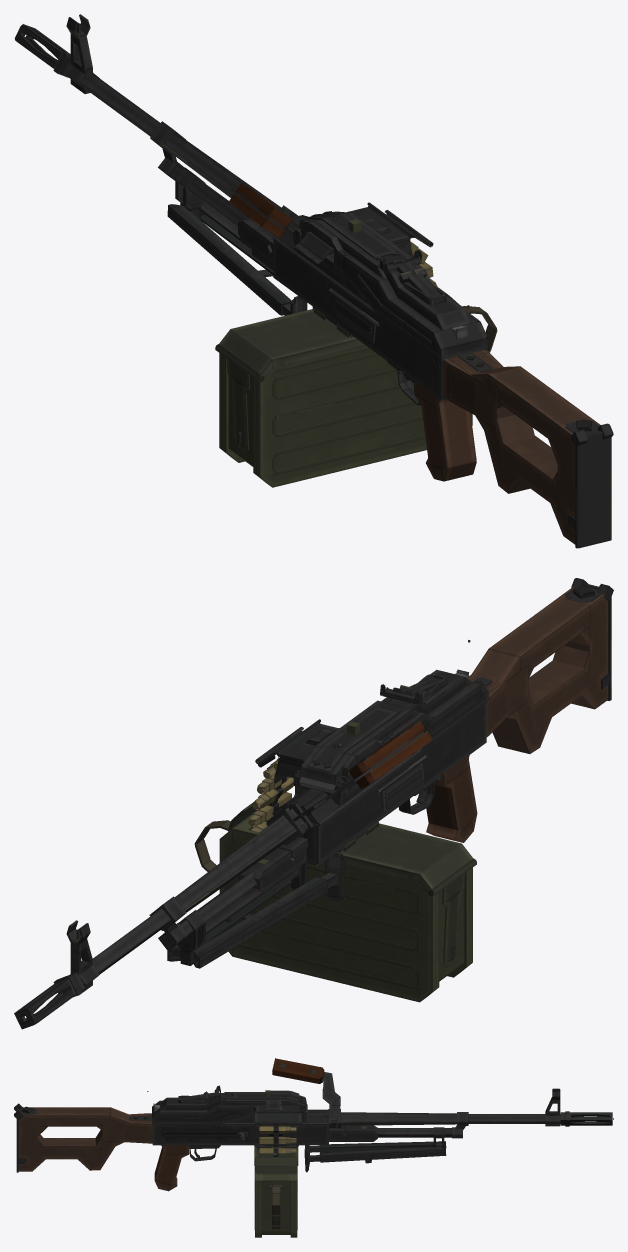
File: a6_pkm.geo.fbx
3 views of the same model, one above another, from view 1: azimuth 30°, elevation 25°; view 2: azimuth 150°, elevation 25°; view 3: azimuth 270°, elevation 25° (orthographic). The views are drawn at different scales.
Parts seen in each view (by area): view 1: magazine, pkmstock, dustcover, pkmbody, barrel, pkmgrip, bone5, gastube, barrelswaphandlecarry, rearironsight, muzzle_break, bone3 (+1 smaller); view 2: magazine, pkmstock, dustcover, pkmbody, barrel, gastube, bone5, pkmgrip, barrelswaphandlecarry, bone3, muzzle_break, cartridgeportdustcover (+3 smaller); view 3: pkmstock, dustcover, magazine, pkmbody, barrel, gastube, bone3, barrelswaphandlecarry, pkmgrip, bone5, charginghandlerail, muzzle_break (+4 smaller).
Boxes of the visible parts, <box> form: magazine: <box>215,287,497,487</box>; pkmstock: <box>443,349,613,548</box>; dustcover: <box>294,202,487,359</box>; pkmbody: <box>272,215,492,400</box>; barrel: <box>63,14,290,216</box>; pkmgrip: <box>414,381,476,481</box>; bone5: <box>167,204,307,315</box>; gastube: <box>158,149,273,264</box>; barrelswaphandlecarry: <box>229,183,292,238</box>; rearironsight: <box>384,256,446,305</box>; muzzle_break: <box>14,24,70,77</box>; bone3: <box>200,201,273,274</box>; magazine: <box>194,802,476,1002</box>; pkmstock: <box>468,578,613,753</box>; dustcover: <box>255,669,488,784</box>; pkmbody: <box>272,678,492,865</box>; barrel: <box>66,809,304,995</box>; gastube: <box>158,837,307,965</box>; bone5: <box>193,852,345,968</box>; pkmgrip: <box>426,755,477,842</box>; barrelswaphandlecarry: <box>293,720,432,821</box>; bone3: <box>167,862,306,961</box>; muzzle_break: <box>14,972,84,1029</box>; cartridgeportdustcover: <box>381,762,423,812</box>; pkmstock: <box>14,1103,152,1172</box>; dustcover: <box>152,1090,306,1124</box>; magazine: <box>254,1145,298,1237</box>; pkmbody: <box>129,1104,328,1149</box>; barrel: <box>331,1088,560,1126</box>; gastube: <box>329,1125,466,1147</box>; bone3: <box>304,1145,446,1172</box>; barrelswaphandlecarry: <box>272,1058,340,1112</box>; pkmgrip: <box>154,1145,189,1191</box>; bone5: <box>305,1141,446,1163</box>; charginghandlerail: <box>161,1126,248,1141</box>; muzzle_break: <box>560,1111,612,1126</box>.
Size of the model in its own units: 199 by 193 by 768.
Materials: 1 (1 with a texture image).
